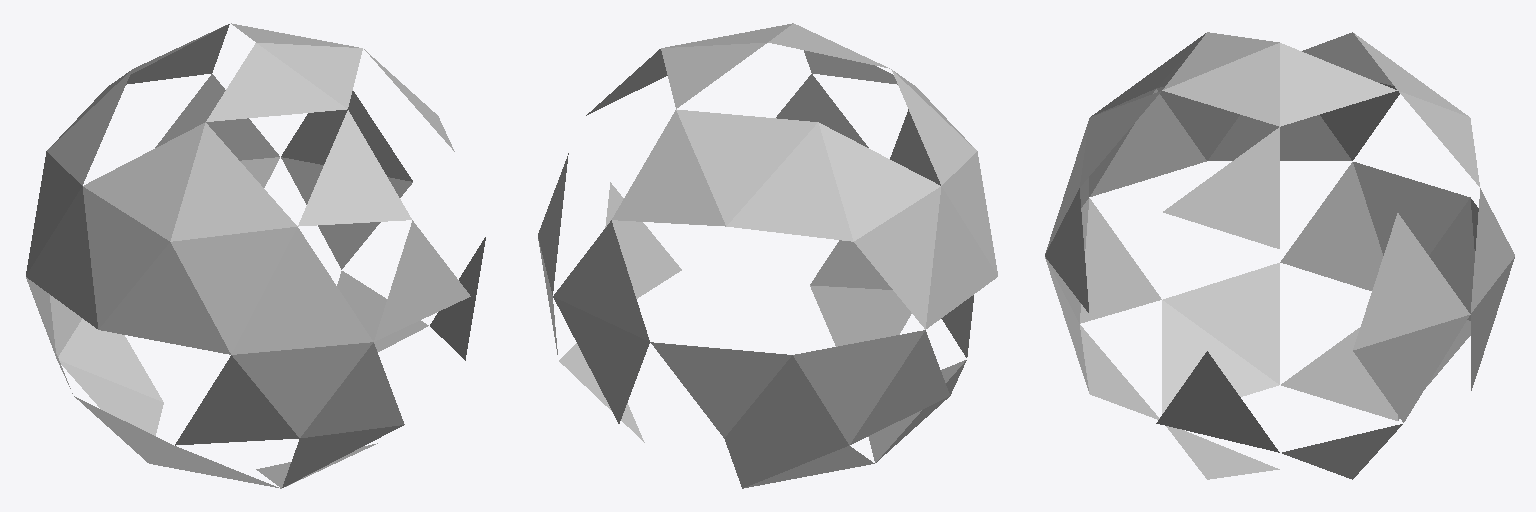
File: icorandom.obj
The picture shows the model from 3 angles: view 1: azimuth 30°, elevation 25°; view 2: azimuth 150°, elevation 25°; view 3: azimuth 270°, elevation 25°; orthographic projection.
Parts seen in each view (by area): view 1: Icosphere; view 2: Icosphere; view 3: Icosphere.
Part boxes in pixels (x1,y1,x2,y2): Icosphere: (26,23,485,488); Icosphere: (538,23,997,488); Icosphere: (1045,32,1514,479).
Bounding box in the file's own units: 1.9 × 2 × 2.